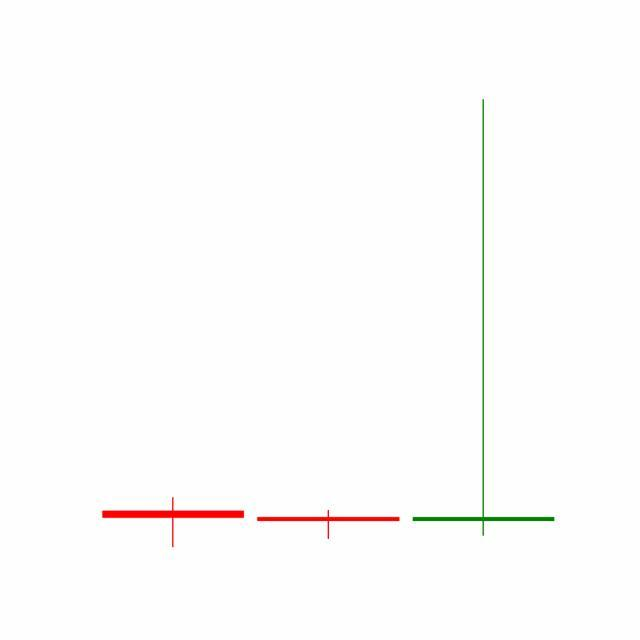Spinning Top: (406, 95, 562, 542)
